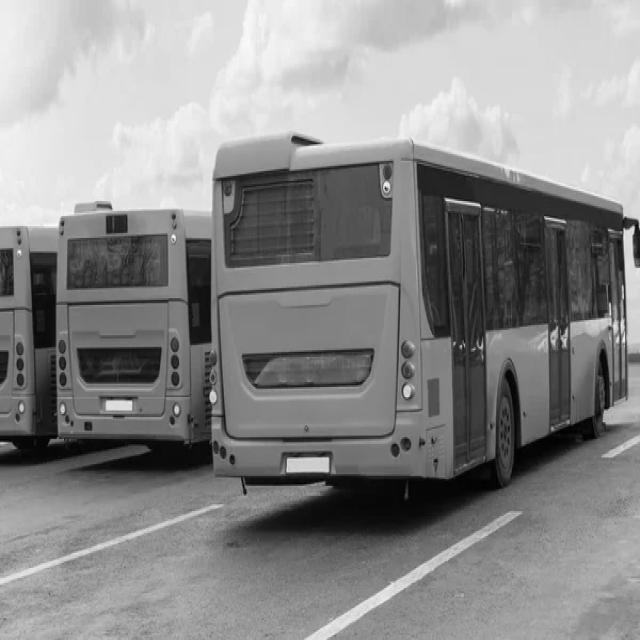Bus: (210, 132, 640, 486), (56, 201, 211, 447), (0, 226, 58, 449)
